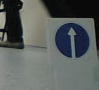forward: (56, 23, 91, 58)
